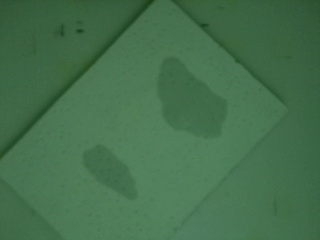Water_detected: (156, 73, 215, 135), (92, 152, 137, 193)
